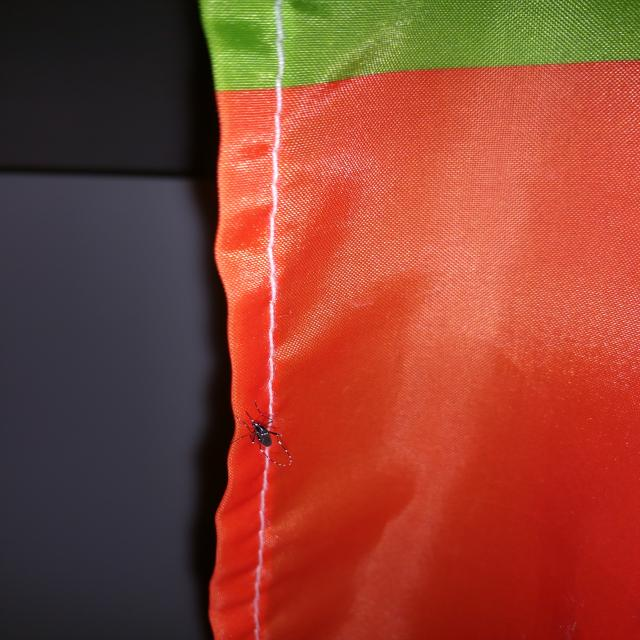albopictus: (223, 397, 296, 466)
